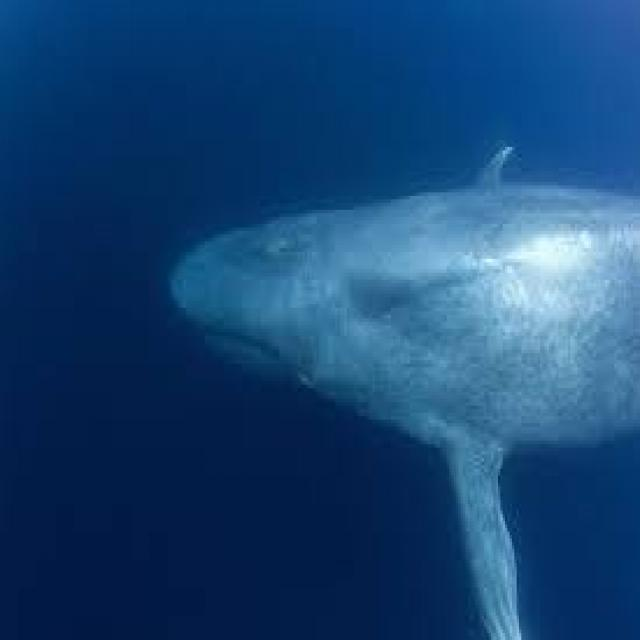blue_whale: (130, 119, 640, 640)
